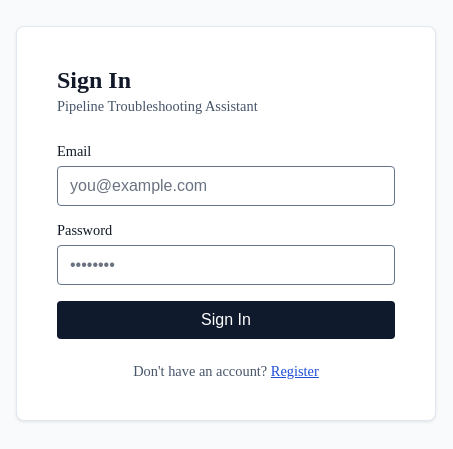
Test: LoginPage inline validation › shows password required error when password is empty
Type "user@example.com" into the field labelled "Email" at (226, 186), box [57,166,395,206]
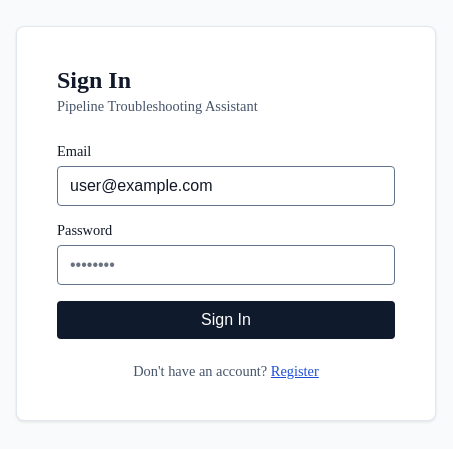
Click the button "Sign In" at (226, 320), box [57,300,395,338]
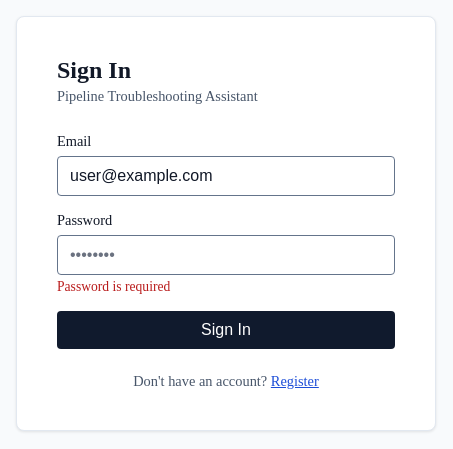
Result: the text "Password is required" is shown at [57,278,170,294]
